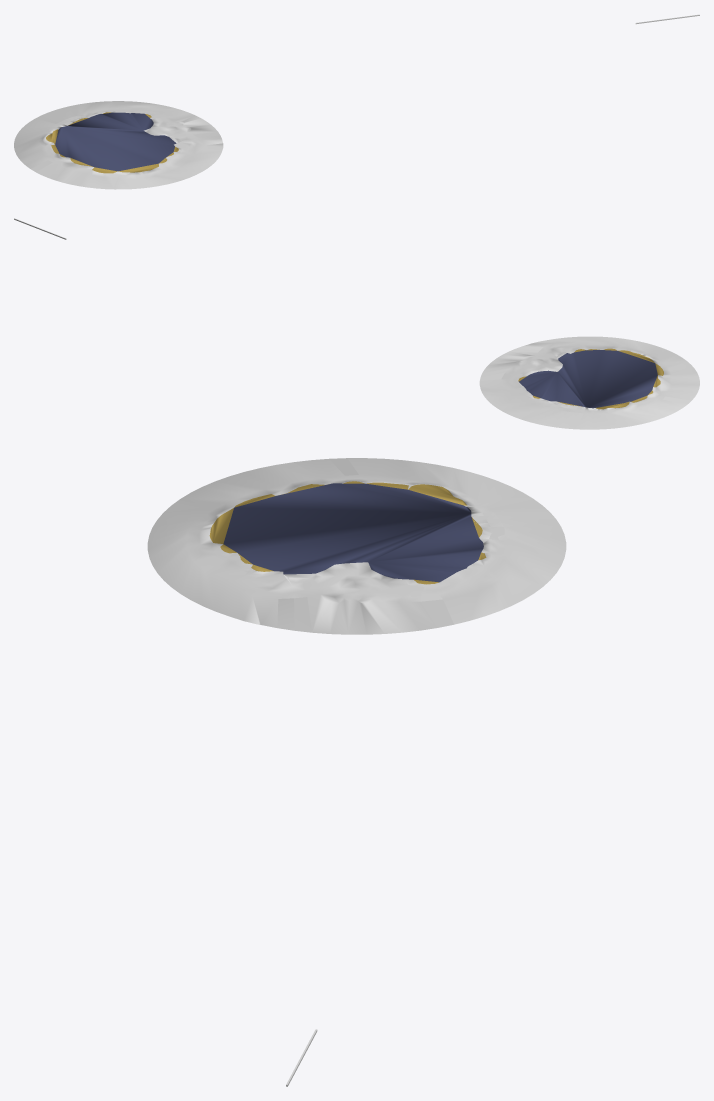
The model's file is boat_sand3.fbx.
3 views of the same model, one above another, from view 1: azimuth 30°, elevation 25°; view 2: azimuth 150°, elevation 25°; view 3: azimuth 270°, elevation 25° (orthographic). The views are drawn at different scales.
Parts seen in each view (by area): view 1: Object_7.004; view 2: Object_7.004; view 3: Object_7.004.
Boxes of the visible parts, x1,y1,x2,y2 form: Object_7.004: [14, 101, 223, 189]; Object_7.004: [479, 336, 699, 429]; Object_7.004: [147, 458, 566, 634].
Bounding box in the file's own units: 8516 × 83.03 × 2359.
